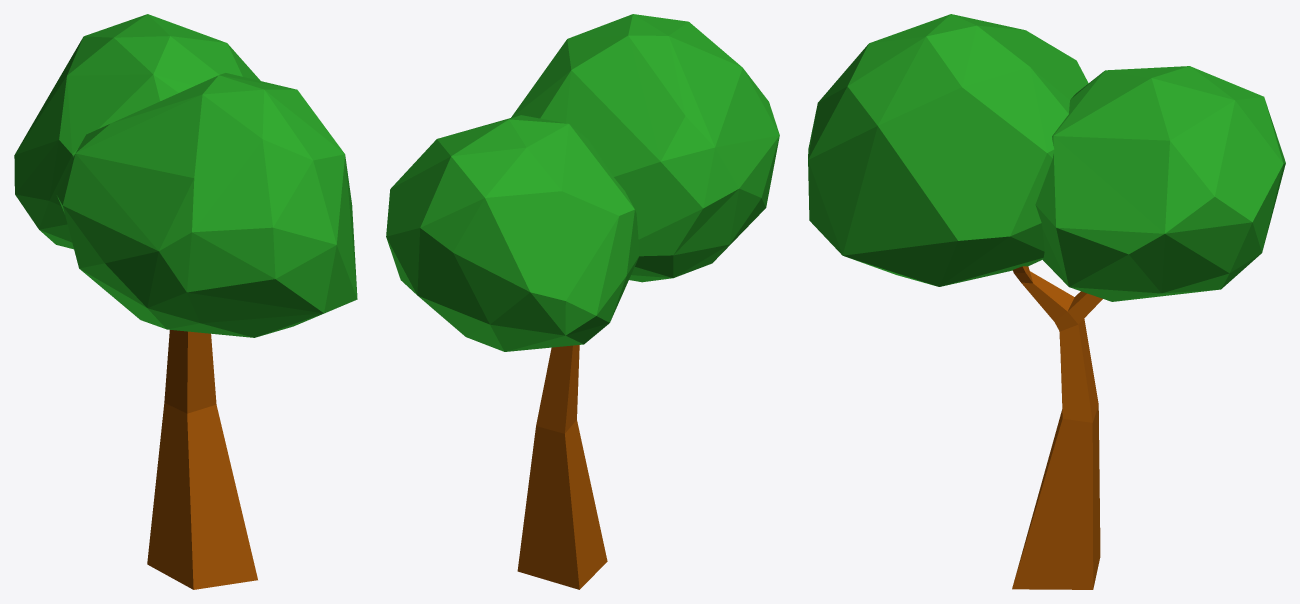
The model's file is Tree5.fbx.
3 views of the same model, side by side, from view 1: azimuth 30°, elevation 25°; view 2: azimuth 150°, elevation 25°; view 3: azimuth 270°, elevation 25° (orthographic). The views are drawn at different scales.
Visible parts, largest first — view 1: Tree5; view 2: Tree5; view 3: Tree5.
Part boxes in pixels (x1,y1,x2,y2): Tree5: (14, 14, 357, 589); Tree5: (386, 14, 779, 589); Tree5: (808, 14, 1285, 589).
Size of the model in its own units: 4.72 by 6.7 by 8.29.
